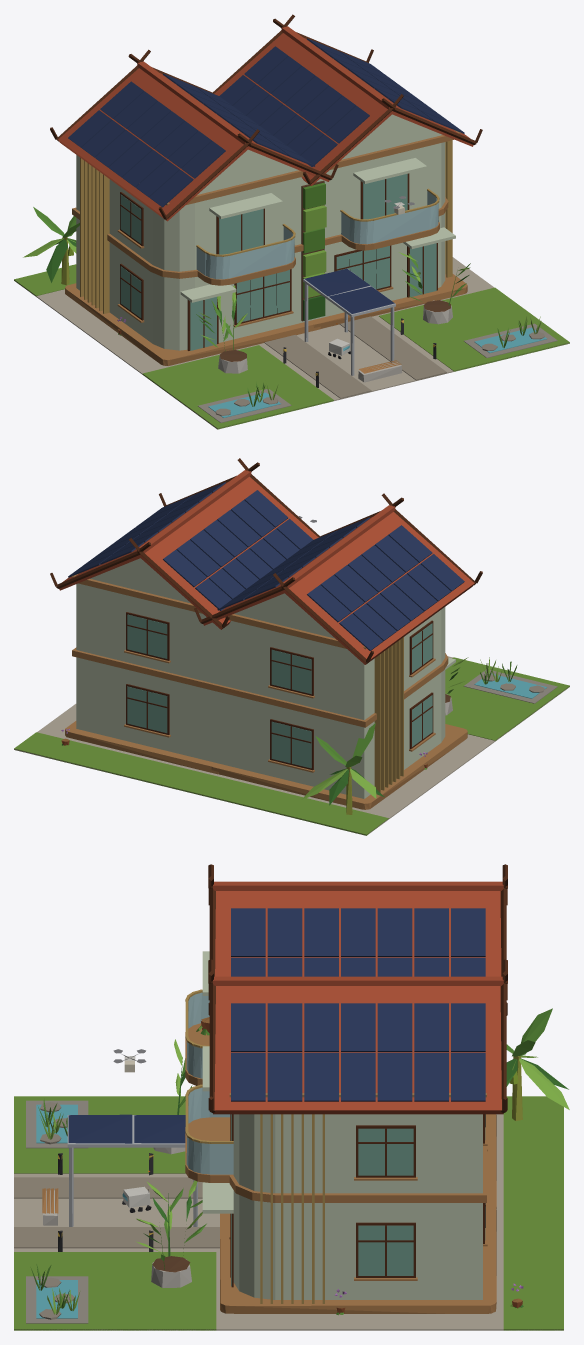
The model's file is home_2.glb.
The picture shows the model from 3 angles, top to bottom: view 1: azimuth 30°, elevation 25°; view 2: azimuth 150°, elevation 25°; view 3: azimuth 270°, elevation 25°; orthographic projection. The views are drawn at different scales.
Visible parts, largest first — view 1: body; view 2: body; view 3: body.
Boxes of the visible parts, x1,y1,x2,y2 form: body: [14, 14, 569, 429]; body: [14, 458, 569, 835]; body: [14, 864, 569, 1330].
Size of the model in its own units: 15.93 by 9.69 by 16.07.
